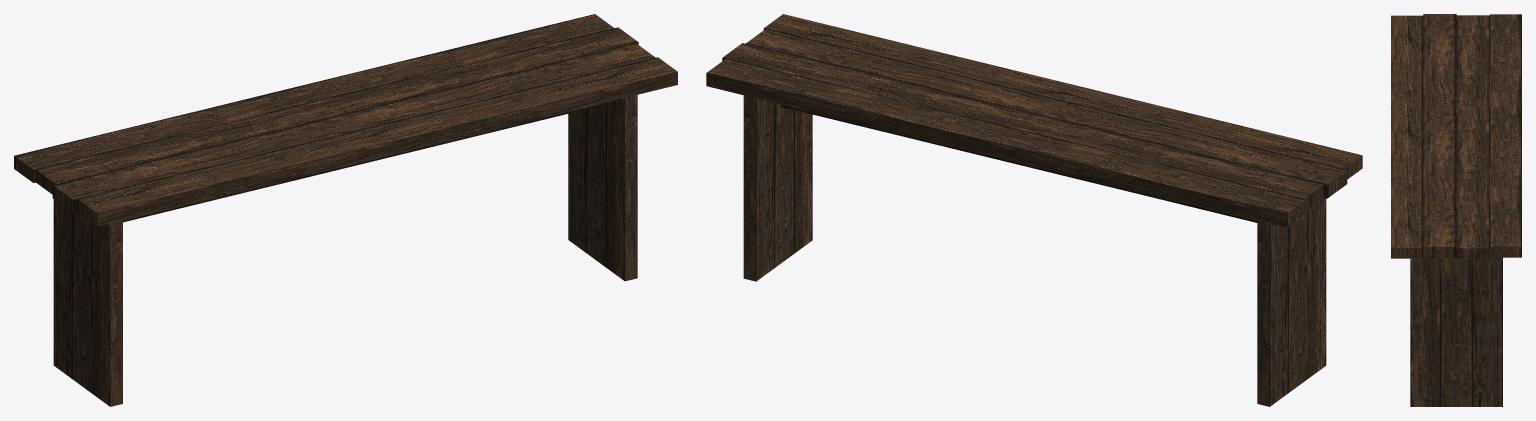
File: bench_mx_1.glb
3 views of the same model, side by side, from view 1: azimuth 30°, elevation 25°; view 2: azimuth 150°, elevation 25°; view 3: azimuth 270°, elevation 25° (orthographic). The views are drawn at different scales.
Parts seen in each view (by area): view 1: bench_mx_1; view 2: bench_mx_1; view 3: bench_mx_1.
Part boxes in pixels (bbox=[...]): bench_mx_1: bbox=[14, 14, 677, 406]; bench_mx_1: bbox=[706, 14, 1362, 406]; bench_mx_1: bbox=[1391, 14, 1521, 406].
Size of the model in its own units: 1.86 by 0.63 by 0.438.
1 material, 1 textured.
